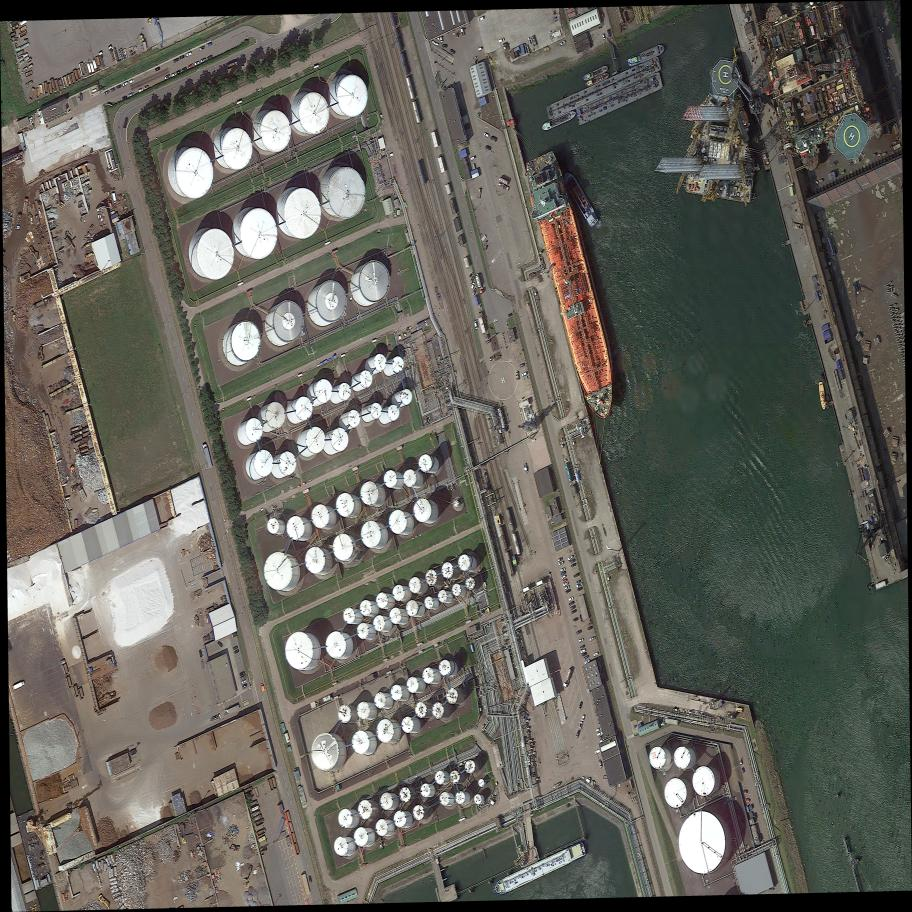large-vehicle: (201, 442, 213, 470), (474, 272, 485, 295), (224, 60, 240, 71), (14, 214, 23, 231), (60, 659, 69, 676), (22, 198, 29, 215), (122, 116, 129, 130), (449, 48, 457, 55), (441, 44, 448, 48)
ship: (515, 143, 631, 426), (542, 56, 665, 121), (486, 838, 592, 899), (572, 71, 667, 126), (558, 168, 603, 232), (623, 42, 669, 70), (539, 108, 579, 133), (580, 64, 610, 83), (583, 71, 612, 89), (817, 380, 828, 411)
small-vehicle: (562, 668, 574, 689), (522, 462, 530, 474), (514, 370, 521, 381), (472, 319, 479, 330), (477, 15, 486, 23), (259, 682, 266, 692), (567, 600, 576, 607), (592, 650, 601, 657), (198, 45, 207, 52), (184, 51, 193, 58), (521, 371, 530, 378), (572, 572, 581, 579), (199, 57, 208, 64), (238, 670, 247, 677), (239, 674, 248, 681), (489, 136, 498, 143), (570, 608, 578, 615), (575, 628, 583, 635), (589, 635, 597, 642), (583, 654, 591, 661), (584, 658, 592, 665), (172, 57, 180, 64), (569, 604, 577, 611), (594, 748, 602, 755), (570, 562, 578, 569), (560, 570, 568, 577), (187, 63, 195, 70), (103, 89, 111, 96), (121, 80, 129, 87), (216, 640, 224, 647), (240, 678, 248, 685), (241, 682, 249, 689), (127, 91, 135, 98), (498, 37, 506, 44), (483, 131, 491, 138), (79, 91, 84, 102), (578, 701, 584, 710), (568, 558, 577, 564), (163, 74, 172, 80), (198, 649, 204, 658), (488, 355, 497, 361), (469, 276, 475, 285), (557, 556, 564, 563), (564, 584, 571, 591), (581, 651, 589, 657), (578, 722, 584, 730), (575, 731, 581, 739), (178, 54, 186, 60), (567, 596, 575, 602), (485, 339, 493, 345), (564, 588, 572, 594), (518, 362, 526, 368), (577, 585, 585, 591), (576, 582, 584, 588), (575, 579, 583, 585), (560, 573, 568, 579), (562, 581, 570, 587), (206, 54, 214, 60), (115, 84, 123, 90), (154, 66, 162, 72), (559, 40, 567, 46), (470, 282, 476, 290), (602, 33, 607, 42), (587, 625, 594, 631), (578, 637, 585, 643), (579, 644, 586, 650), (580, 648, 587, 654), (568, 554, 575, 560), (558, 560, 565, 566), (560, 566, 567, 572), (562, 577, 569, 583), (194, 60, 201, 66), (181, 66, 188, 72), (170, 72, 177, 78), (232, 645, 239, 651), (233, 648, 240, 654), (128, 78, 135, 84), (143, 84, 150, 90), (137, 87, 144, 93), (121, 95, 128, 101), (744, 797, 751, 803), (485, 145, 492, 151), (308, 875, 313, 883), (439, 35, 444, 43), (472, 288, 477, 296), (573, 617, 580, 622), (581, 715, 586, 722), (598, 738, 605, 743), (596, 731, 603, 736), (109, 87, 116, 92), (175, 70, 182, 75), (741, 767, 746, 774), (596, 727, 602, 732), (598, 735, 604, 740), (91, 88, 97, 93), (743, 789, 749, 794), (740, 758, 743, 765)
storage-tank: (677, 810, 735, 874), (230, 202, 281, 262), (276, 182, 323, 241), (318, 167, 366, 219), (188, 229, 235, 280), (168, 147, 214, 199), (349, 258, 393, 309), (292, 85, 332, 139), (215, 124, 255, 176), (307, 279, 347, 327), (254, 107, 293, 156), (264, 300, 304, 347), (222, 320, 261, 367), (327, 74, 368, 118), (284, 631, 323, 672), (310, 732, 347, 771), (263, 553, 301, 590), (323, 628, 355, 661), (296, 425, 326, 460), (692, 766, 722, 796), (665, 777, 694, 807), (246, 449, 274, 480), (304, 547, 333, 575), (360, 521, 389, 549), (258, 402, 285, 432), (312, 500, 337, 532), (350, 729, 378, 757), (286, 396, 313, 424), (306, 378, 333, 406), (239, 417, 265, 446), (326, 424, 349, 456), (335, 493, 362, 519), (332, 533, 357, 561), (412, 499, 440, 524), (388, 510, 414, 536), (287, 515, 313, 541), (360, 482, 387, 507), (272, 452, 297, 479), (376, 720, 402, 744), (364, 399, 384, 425), (356, 797, 378, 820), (673, 747, 696, 769), (389, 604, 411, 626), (650, 747, 672, 769), (343, 407, 363, 431), (364, 354, 387, 374), (350, 371, 373, 391), (334, 836, 356, 856), (418, 454, 440, 474), (394, 385, 413, 408), (353, 828, 376, 847), (338, 809, 361, 828), (374, 689, 394, 710), (330, 383, 351, 403), (384, 355, 404, 376), (403, 470, 425, 489), (383, 470, 403, 490), (337, 704, 358, 723), (441, 562, 462, 580), (357, 702, 378, 720), (401, 716, 422, 734), (384, 405, 400, 428), (392, 584, 412, 602), (342, 608, 364, 624), (267, 518, 286, 536), (373, 615, 393, 632), (360, 600, 380, 617), (376, 592, 396, 609), (408, 578, 428, 595), (393, 811, 413, 828), (433, 702, 453, 719), (356, 624, 377, 640), (415, 701, 433, 719), (423, 667, 442, 684), (406, 600, 425, 617), (380, 793, 399, 810), (390, 685, 410, 701), (375, 820, 395, 836), (425, 569, 443, 586), (439, 660, 458, 676), (407, 677, 426, 693), (413, 805, 430, 821), (399, 788, 417, 802), (465, 759, 480, 774), (424, 596, 440, 610), (420, 783, 436, 797), (439, 793, 456, 806), (452, 583, 467, 597), (435, 771, 450, 785), (438, 590, 454, 603), (465, 577, 481, 590), (450, 771, 466, 784), (474, 794, 485, 805), (478, 779, 486, 787), (454, 500, 461, 507)
